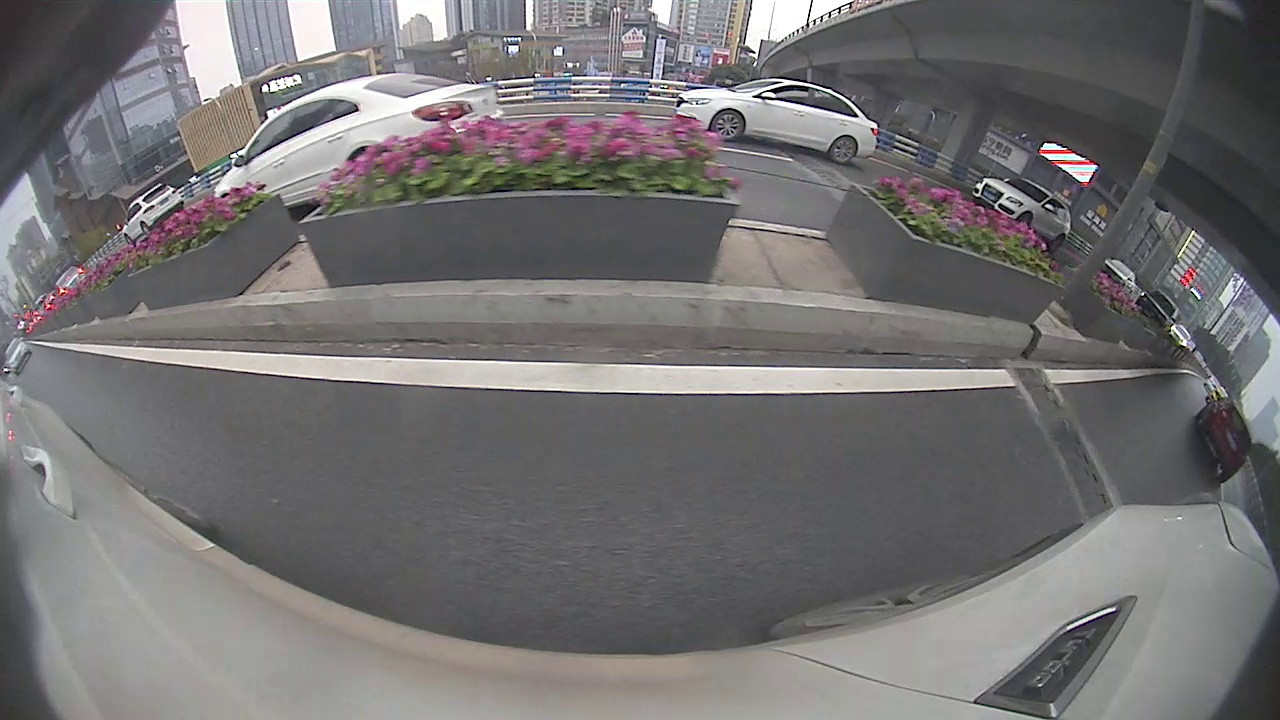car: (216, 72, 500, 193), (673, 78, 882, 164), (1194, 396, 1253, 484), (4, 337, 33, 377)
front: (711, 109, 747, 143)
rear: (830, 136, 860, 163)
